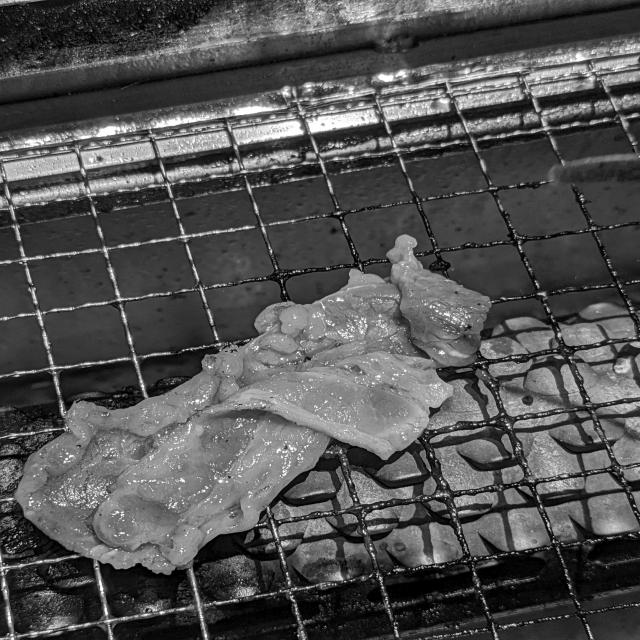NG undercooked beef,: (0, 226, 510, 592)
